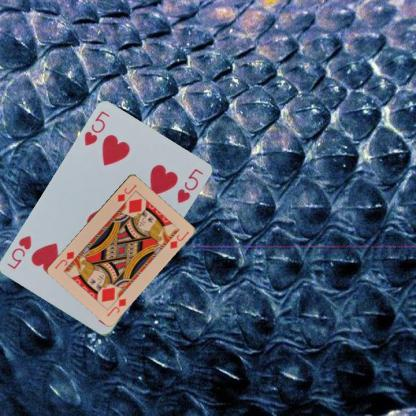5h: (82, 109, 112, 148)
Jd: (104, 295, 128, 317), (114, 182, 138, 203)
